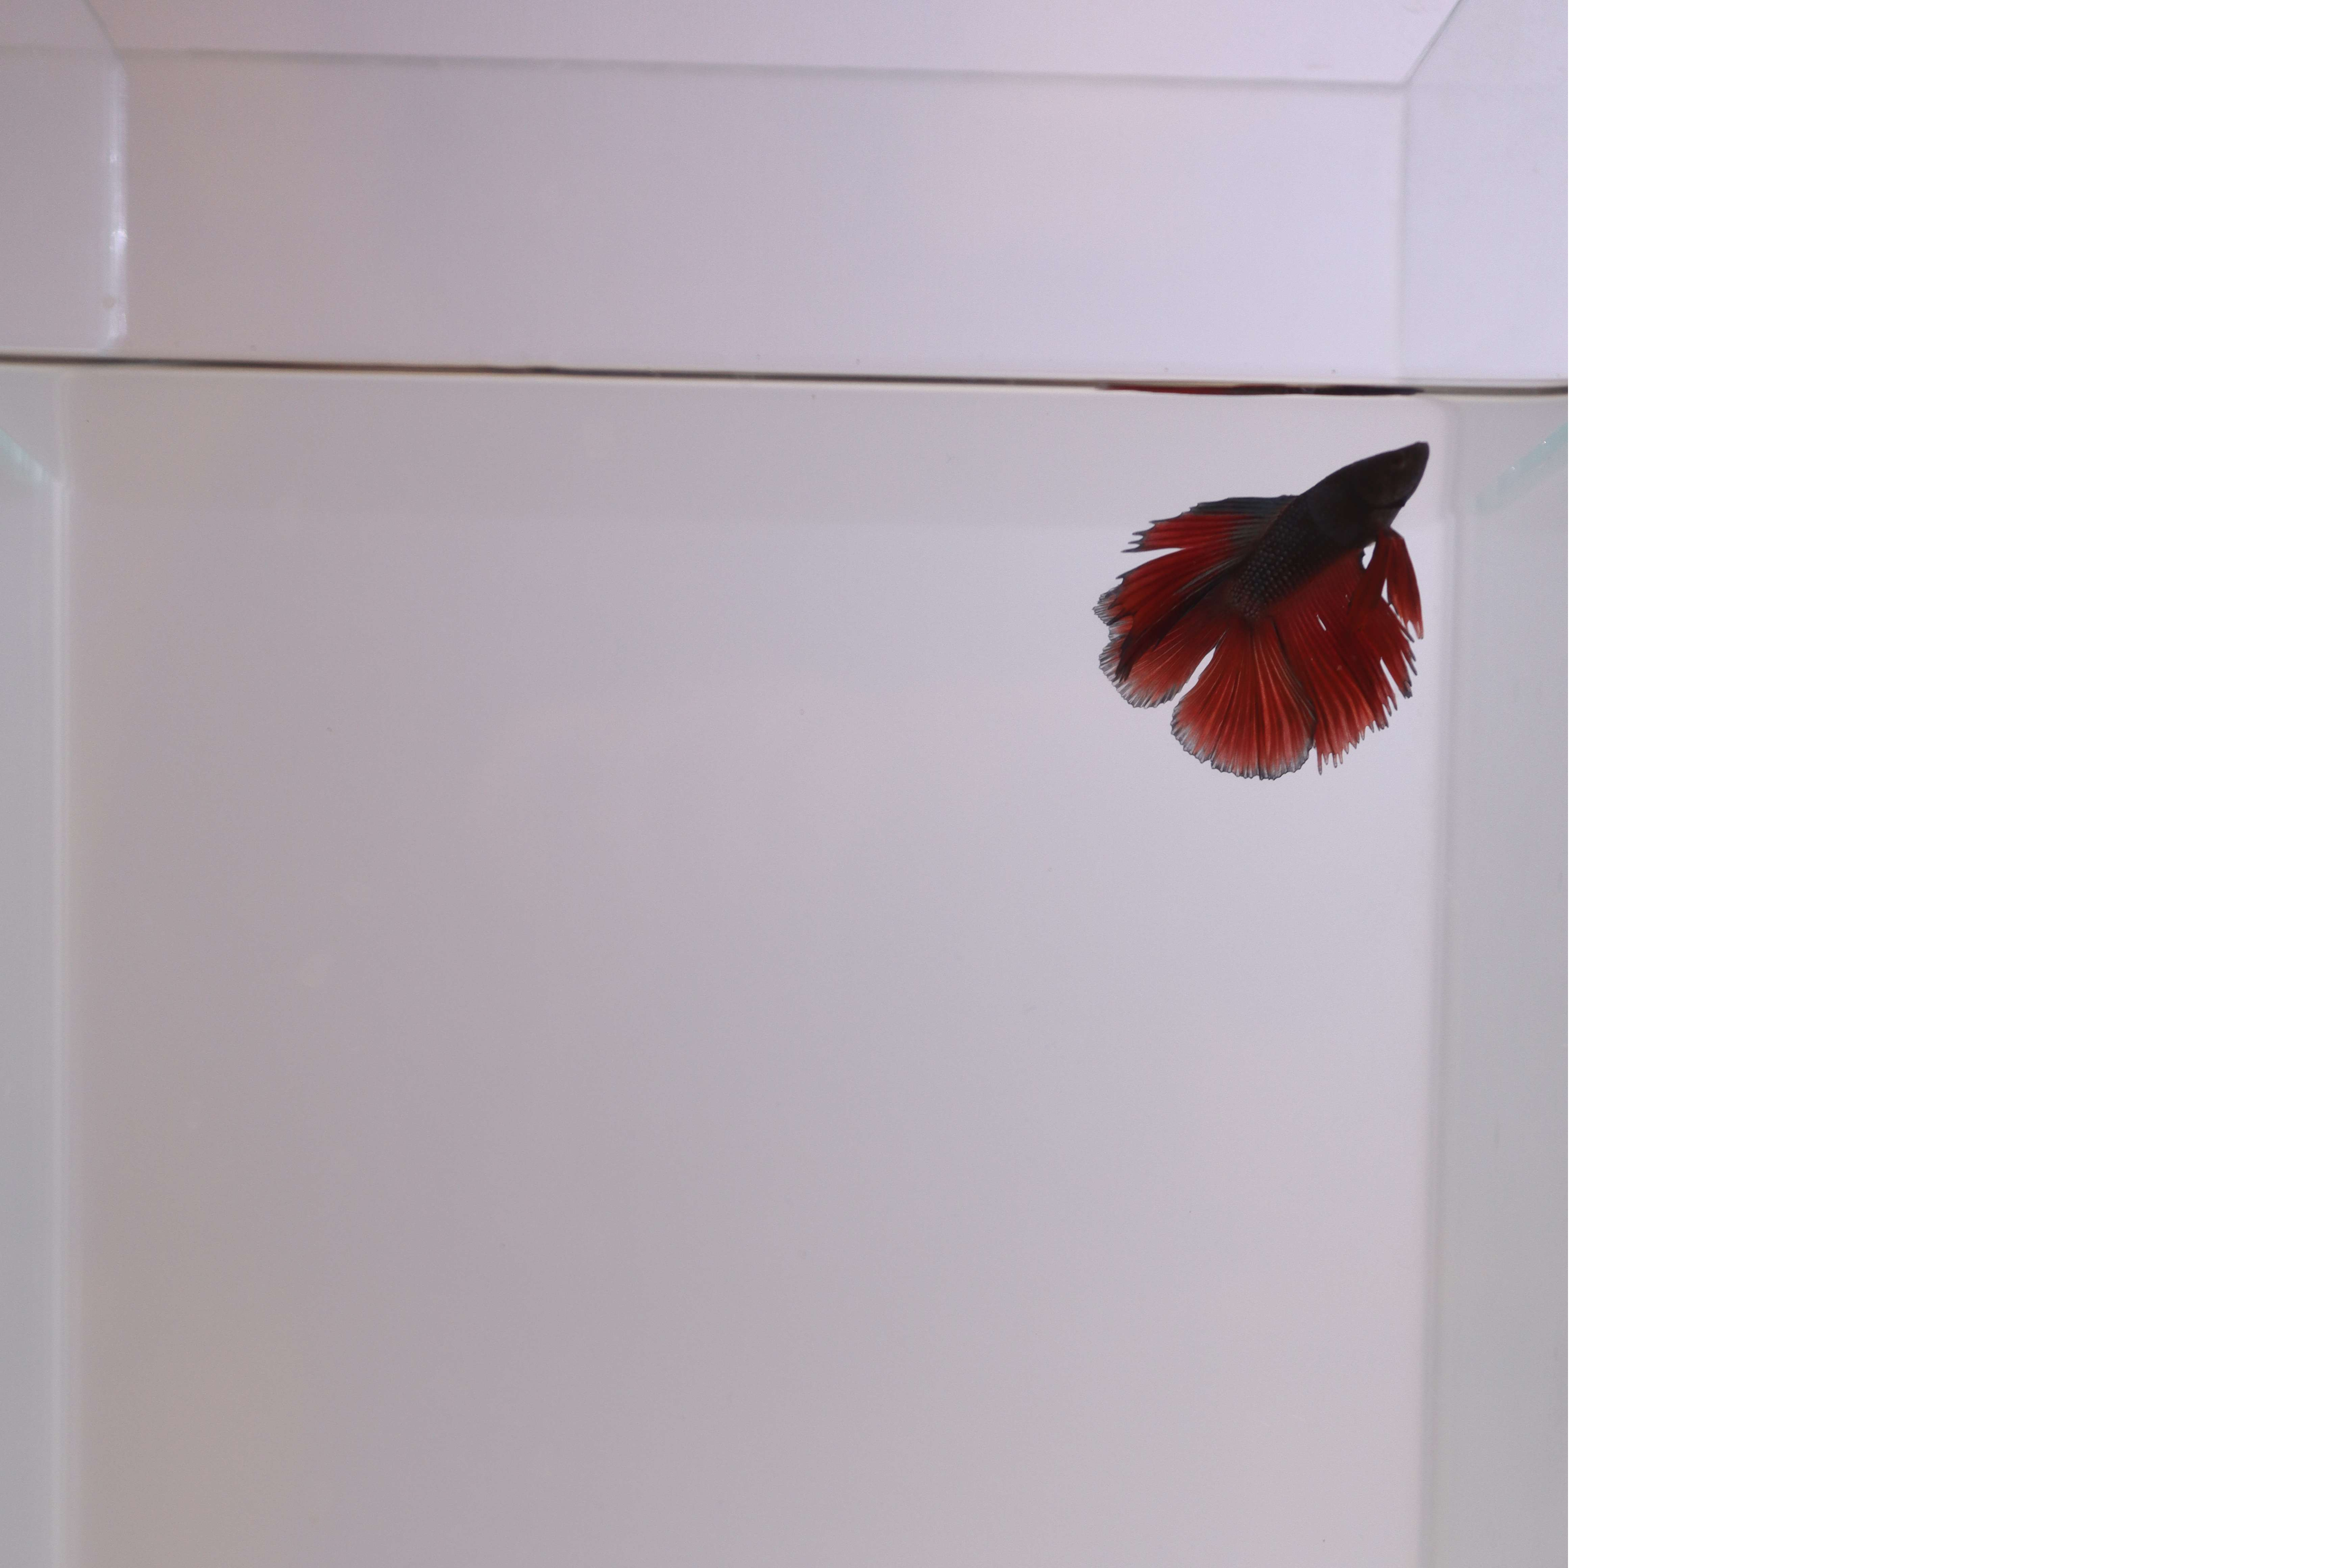fish: (1071, 434, 1440, 779)
